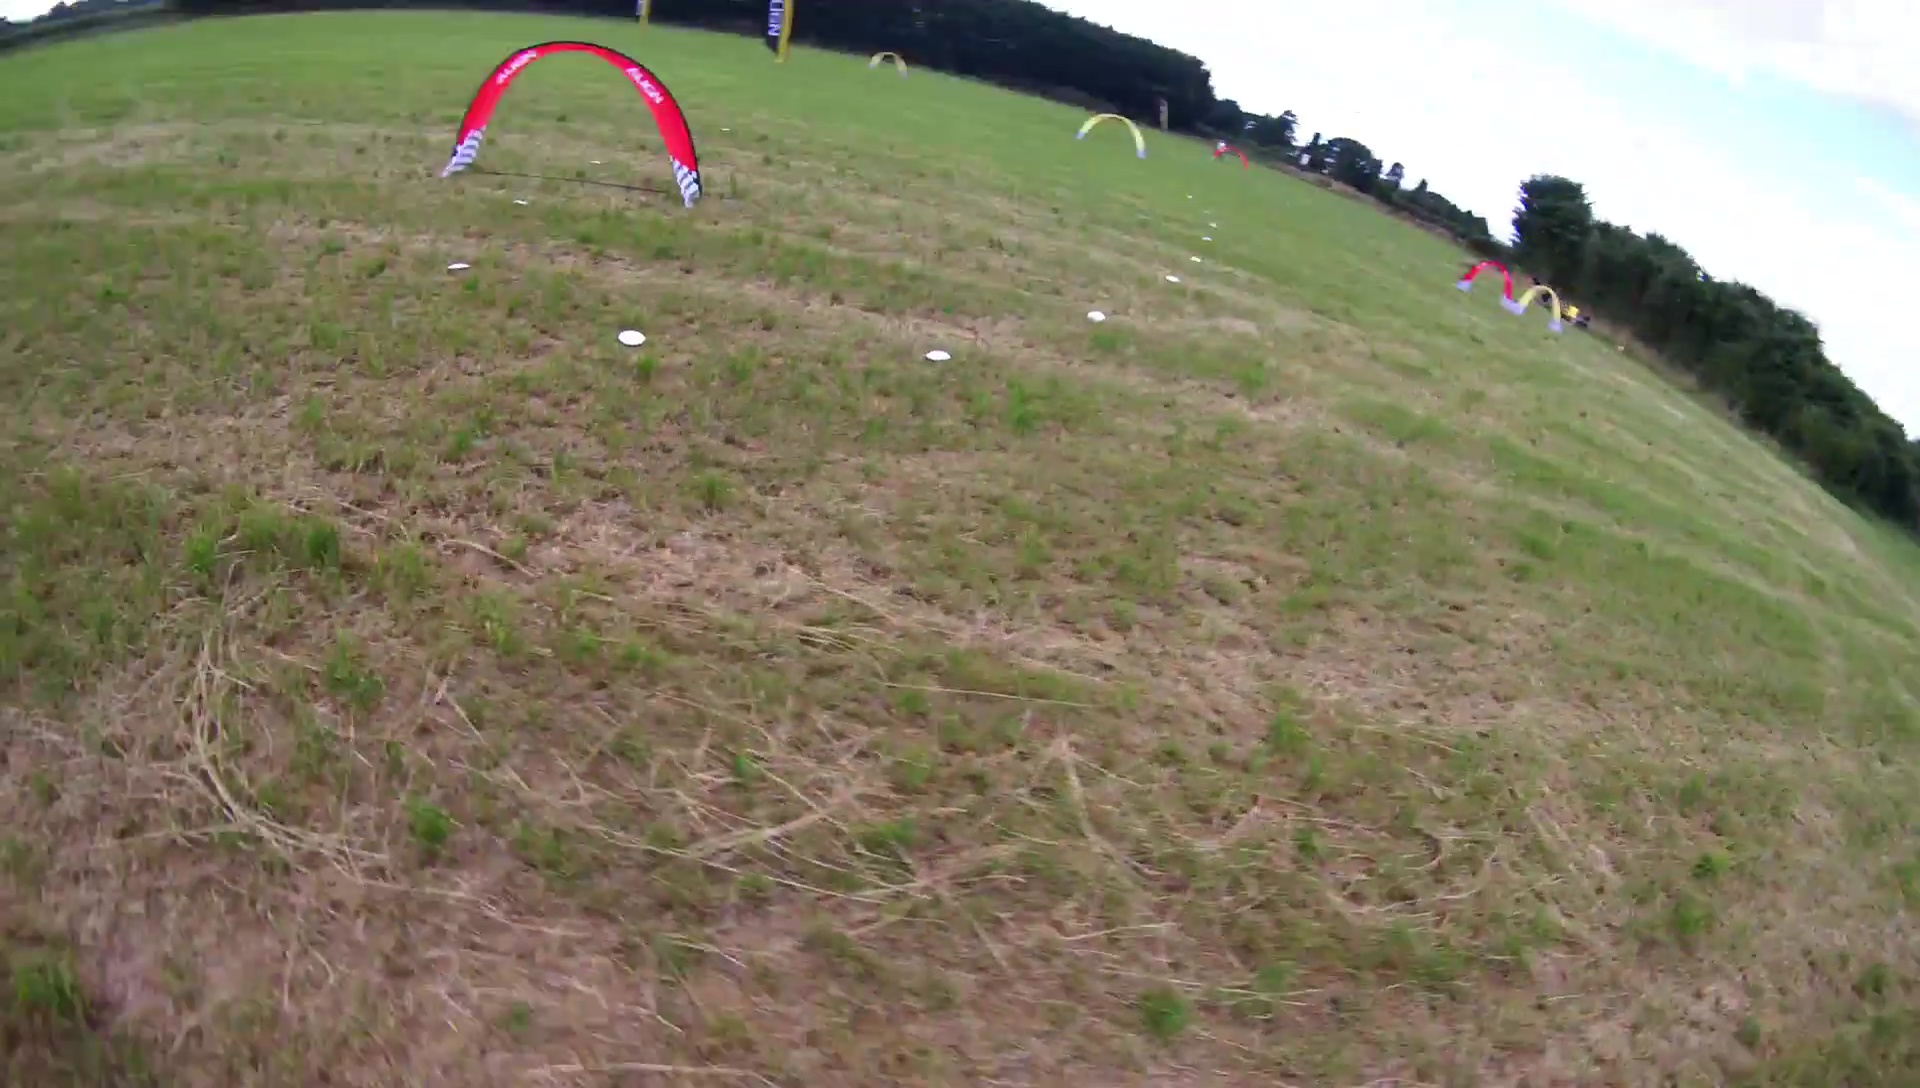gate: (439, 37, 707, 206), (1073, 111, 1150, 162), (1455, 258, 1518, 317), (1515, 284, 1564, 334), (1211, 144, 1251, 173)
